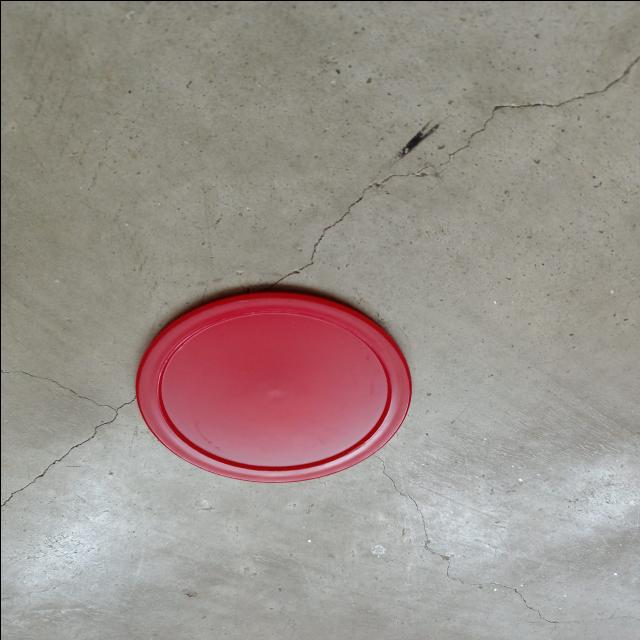chip: (130, 292, 412, 482)
